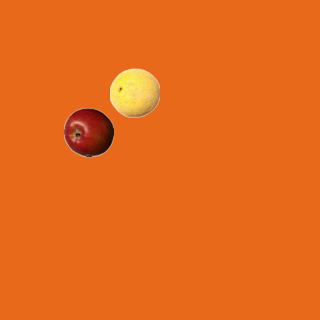Apple Braeburn: (63, 107, 113, 157)
Cantaloupe 1: (109, 67, 159, 117)
